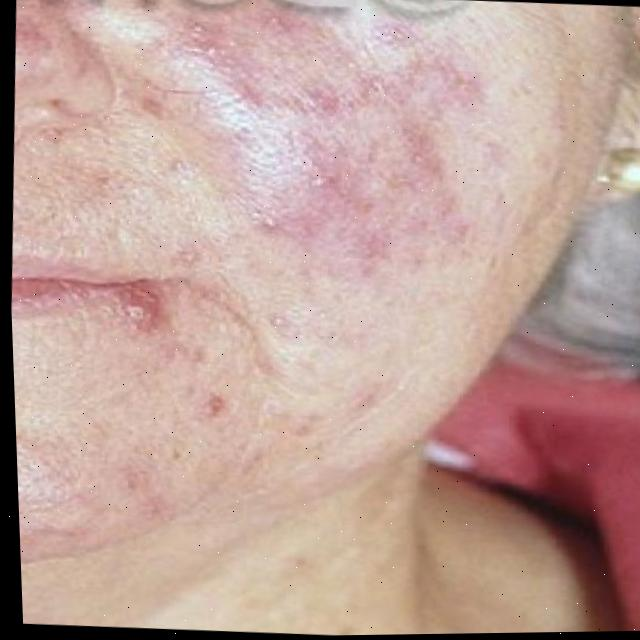Rosacea: (170, 0, 527, 283)
